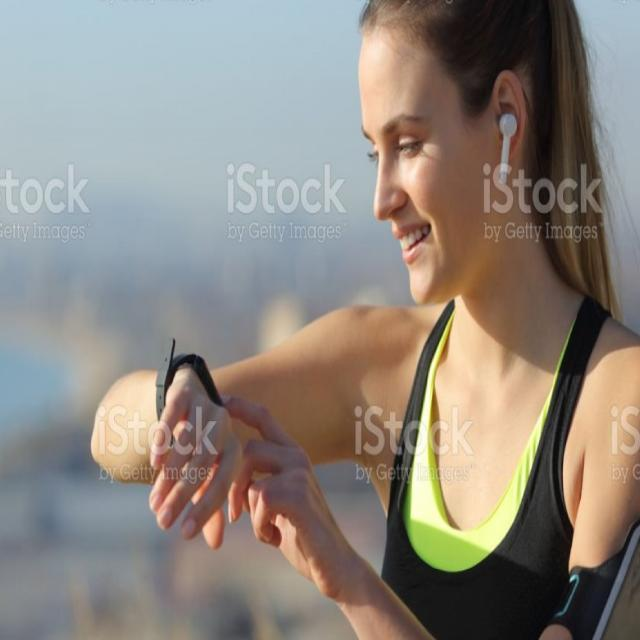Watch: (156, 335, 222, 408)
